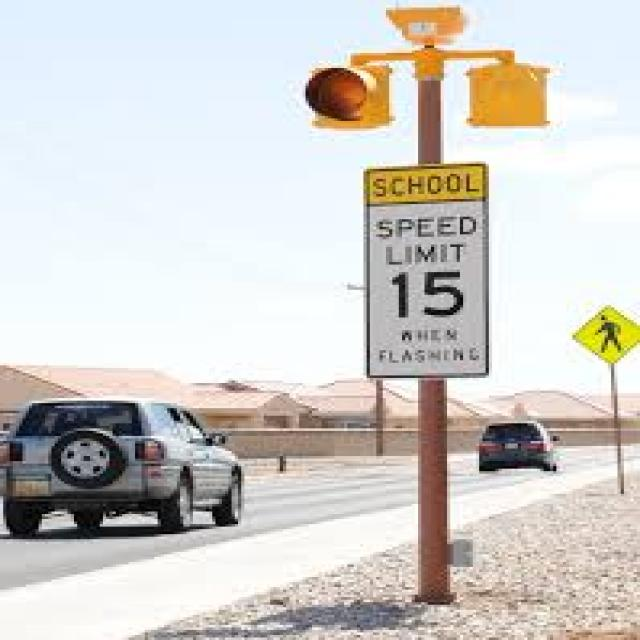speedLimit15: (360, 200, 489, 326)
